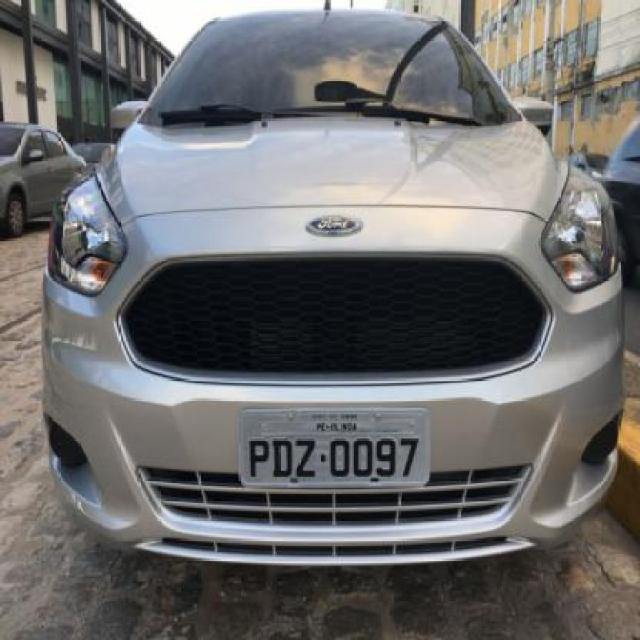old_plate: (233, 403, 434, 494)
